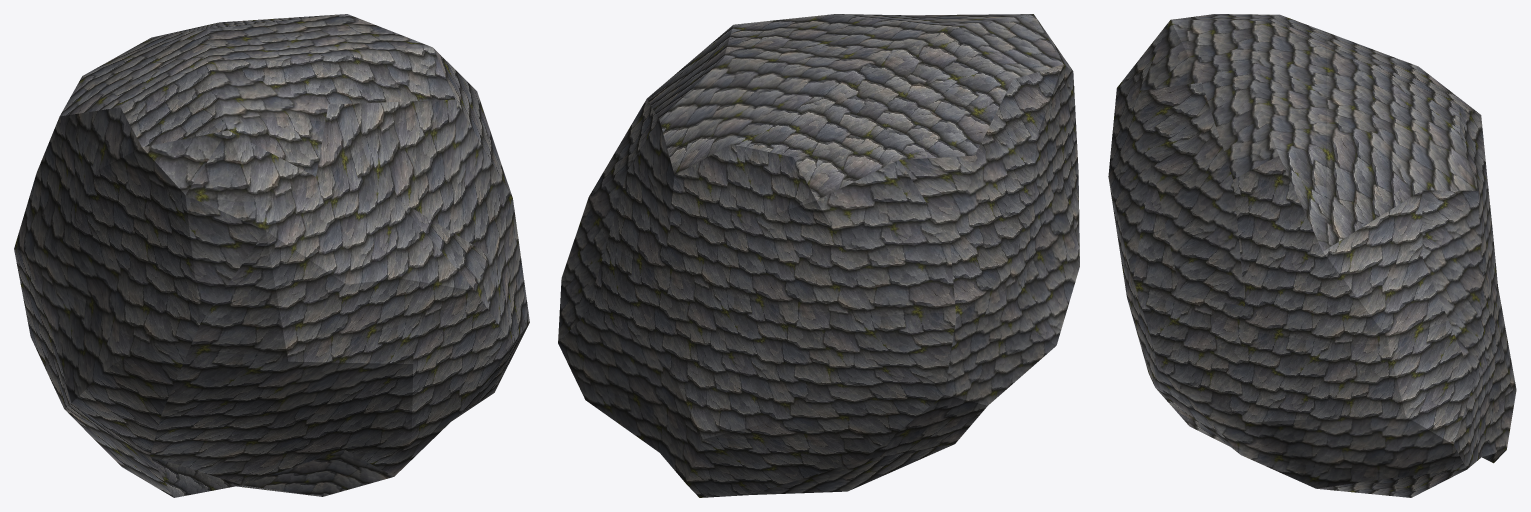
Rendered from grock_j.glb.
3 renders of one model, left to right at view 1: azimuth 30°, elevation 25°; view 2: azimuth 150°, elevation 25°; view 3: azimuth 270°, elevation 25°, orthographic. The views are drawn at different scales.
Visible parts, largest first — view 1: model; view 2: model; view 3: model.
Boxes of the visible parts, box(x1,y1,x2,y2) form: model: box(14, 14, 529, 497); model: box(558, 14, 1079, 497); model: box(1108, 14, 1516, 497).
Size of the model in its own units: 1.97 by 1.9 by 1.75.
1 material, 1 textured.
